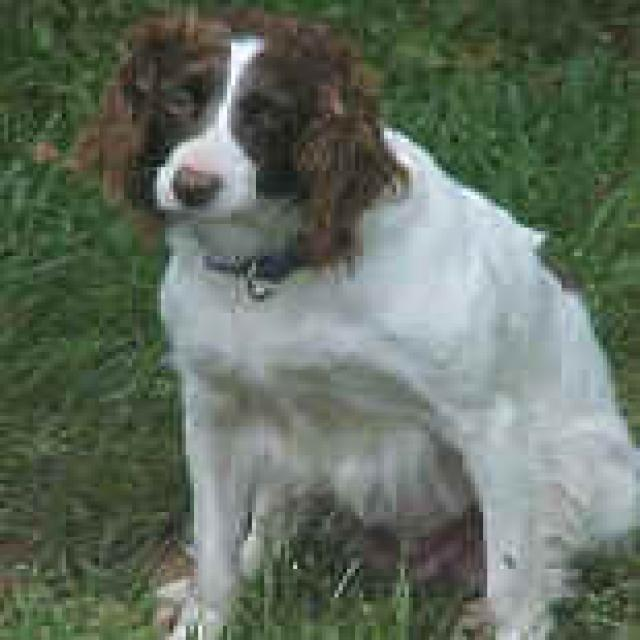Dogs: (29, 4, 636, 636)
